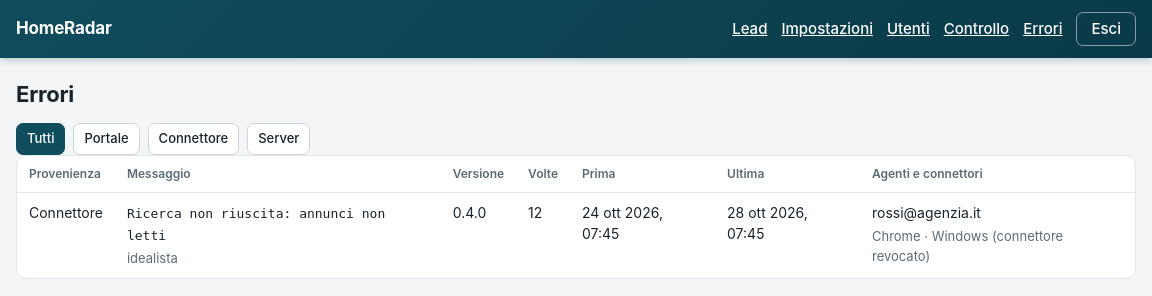
it: pagina «Errori» › righe con connettore revocato e filtro per provenienza
The width and height of the screenshot is (1152, 296).
Expected: the text "Ricerca non riuscita: annunci non letti" is shown, [127, 206, 393, 242]
Expected: the text "Chrome · Windows (connettore revocato)" is shown, [872, 228, 1063, 264]
Click the button "Server". click: (279, 139)
box: [247, 123, 310, 155]
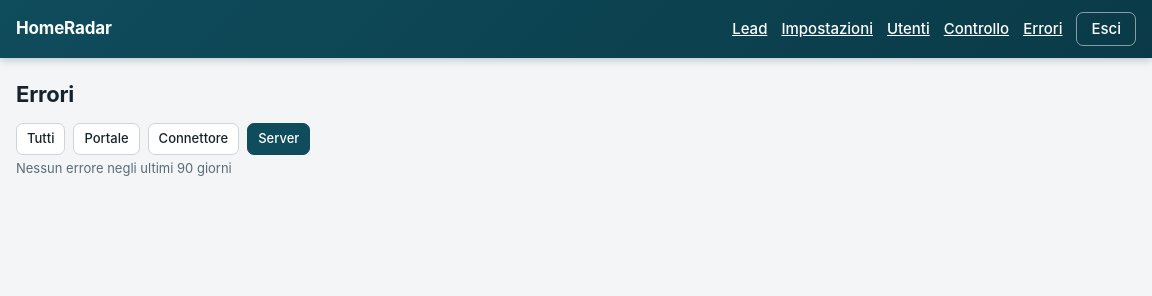
Now the text "Nessun errore negli ultimi 90 giorni" is shown, box [16, 160, 232, 176]
